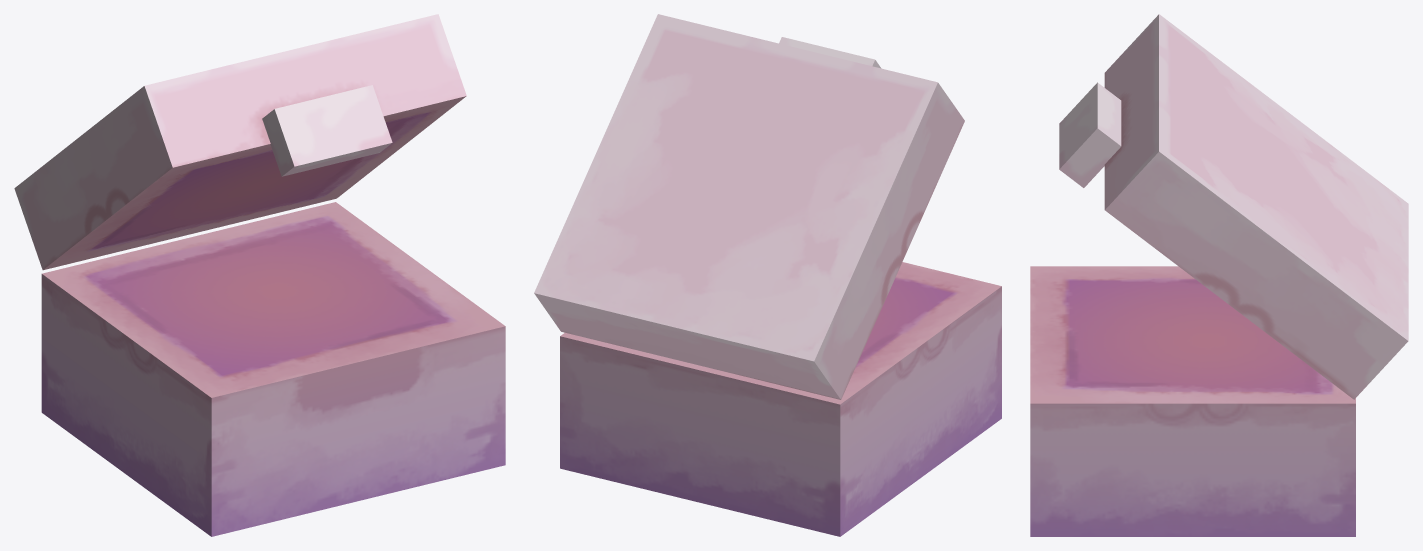
File: chest_open.fbx
The picture shows the model from 3 angles, left to right: view 1: azimuth 30°, elevation 25°; view 2: azimuth 150°, elevation 25°; view 3: azimuth 270°, elevation 25°; orthographic projection. The views are drawn at different scales.
Parts seen in each view (by area): view 1: Cube.016; view 2: Cube.016; view 3: Cube.016.
Part boxes in pixels (x1,y1,x2,y2): Cube.016: [14, 14, 505, 536]; Cube.016: [534, 14, 1001, 536]; Cube.016: [1030, 14, 1408, 536].
Size of the model in its own units: 151 by 197 by 175.
